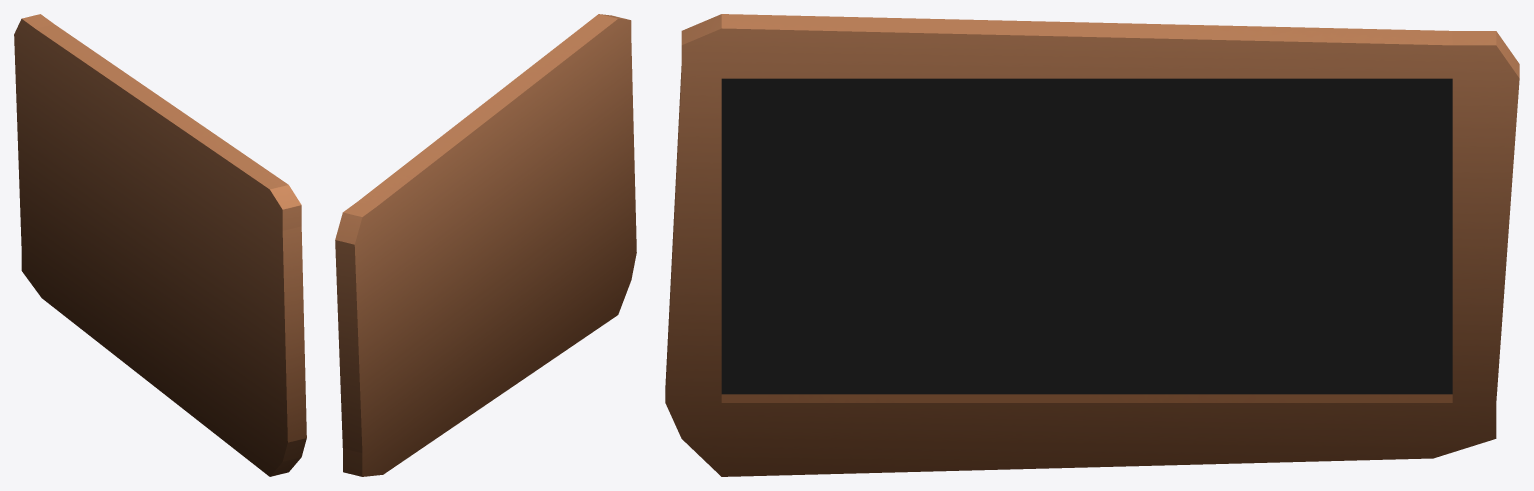
Rendered from BlackBoard.fbx.
3 renders of one model, left to right at view 1: azimuth 30°, elevation 25°; view 2: azimuth 150°, elevation 25°; view 3: azimuth 270°, elevation 25°, orthographic. The views are drawn at different scales.
Visible parts, largest first — view 1: Cube; view 2: Cube; view 3: Cube.
Part boxes in pixels (<box>): Cube: <box>14,14,306,476</box>; Cube: <box>335,14,636,476</box>; Cube: <box>665,14,1519,476</box>.
Bounding box in the file's own units: 63.67 × 919 × 1587.
2 materials, 1 textured.
